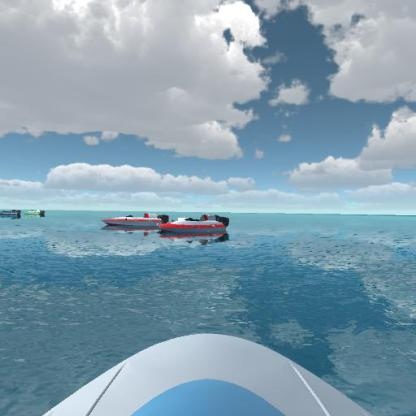usv0: (23, 206, 48, 220)
usv1: (0, 204, 22, 219)
usv3: (159, 212, 234, 242), (96, 207, 173, 232)
